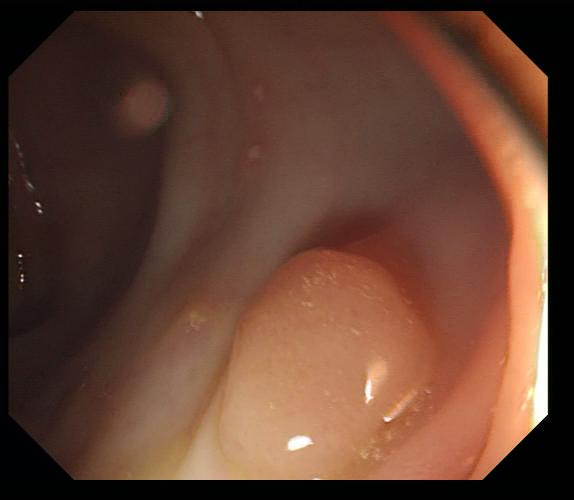polyp: (216, 245, 436, 478), (170, 296, 217, 340)
